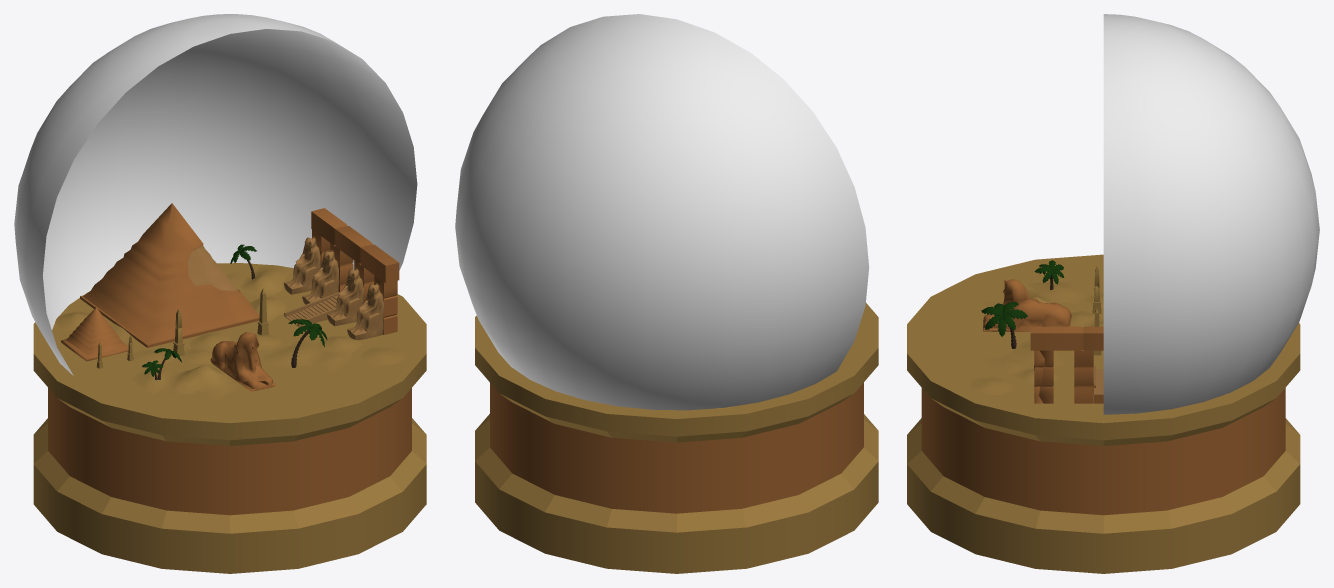
The model's file is egypt_snowball_all.fbx.
The picture shows the model from 3 angles, left to right: view 1: azimuth 30°, elevation 25°; view 2: azimuth 150°, elevation 25°; view 3: azimuth 270°, elevation 25°; orthographic projection. The views are drawn at different scales.
Visible parts, largest first — view 1: base, Sphere002, big_pyramid, statue, sphinx, small_pyramid, stair, broken_arch_pillar, tree_big; view 2: Sphere002, base; view 3: base, Sphere002, sphinx, broken_arch_pillar, tree_big.
Part boxes in pixels (box(x1,y1,x2,y2)): base: box(33, 208, 426, 573); Sphere002: box(14, 14, 417, 375); big_pyramid: box(80, 203, 259, 347); statue: box(302, 250, 383, 340); sphinx: box(210, 332, 275, 391); small_pyramid: box(61, 307, 128, 361); stair: box(284, 292, 339, 326); broken_arch_pillar: box(374, 275, 397, 334); tree_big: box(288, 319, 327, 367); Sphere002: box(455, 14, 869, 410); base: box(475, 303, 878, 573); base: box(907, 254, 1300, 573); Sphere002: box(1103, 14, 1319, 414); sphinx: box(983, 279, 1071, 332); broken_arch_pillar: box(1034, 350, 1053, 403); tree_big: box(981, 301, 1027, 348).
Bounding box in the file's own units: 130 × 151 × 124.
